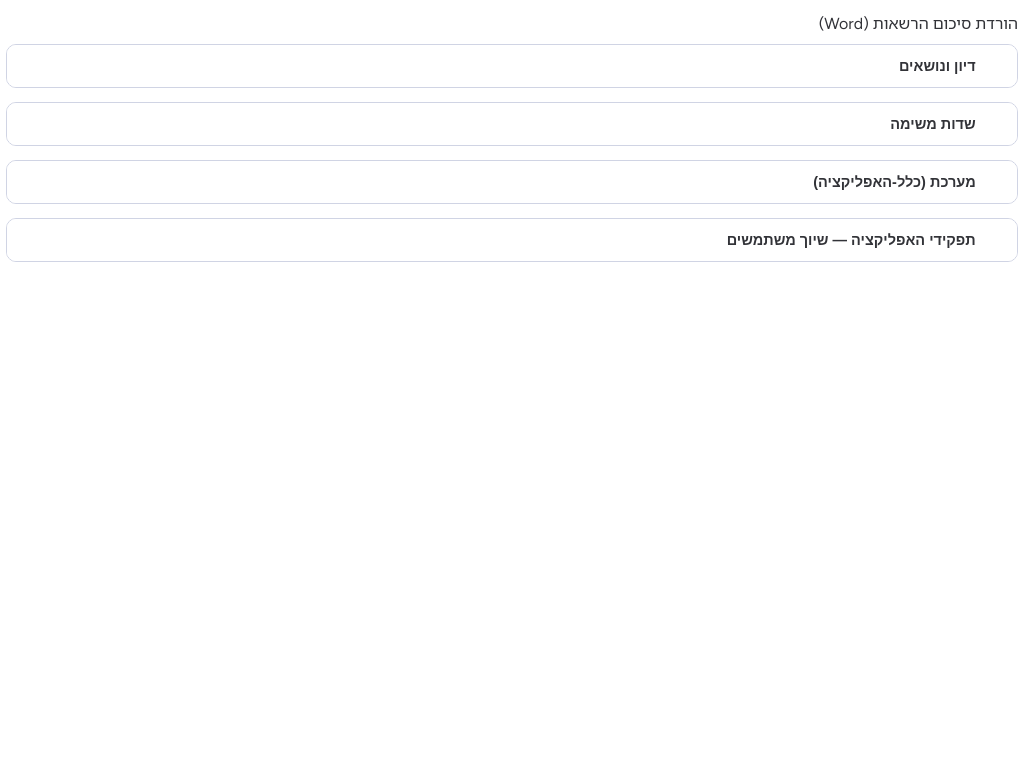
Test case: round332 — section chrome › closes the app-roles body on a second click
What coordinates should you click on to do the following:
click the button "תפקידי האפליקציה — שיוך משתמשים"
I would click on:
 (851, 240)
Its box is [7, 219, 1017, 261].
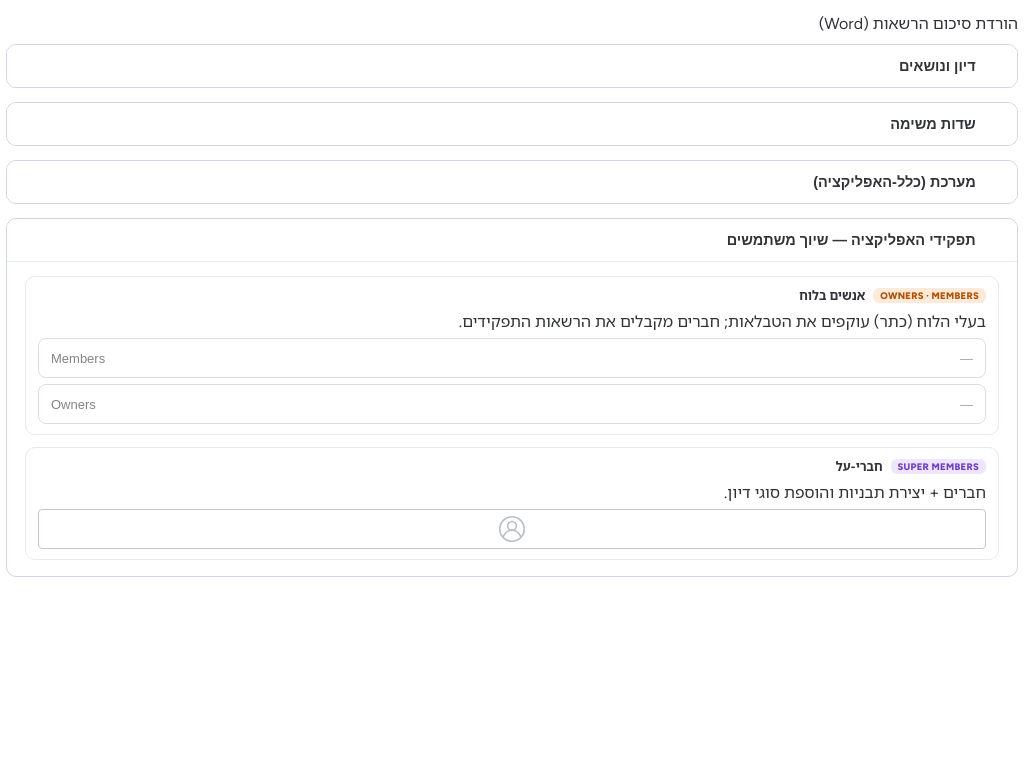
Expected: the text "SUPER MEMBERS" is shown, [890, 459, 986, 474]
What coordinates should you click on to do the following:
click the button "תפקידי האפליקציה — שיוך משתמשים"
I would click on:
 (851, 240)
Its box is [7, 219, 1017, 262].
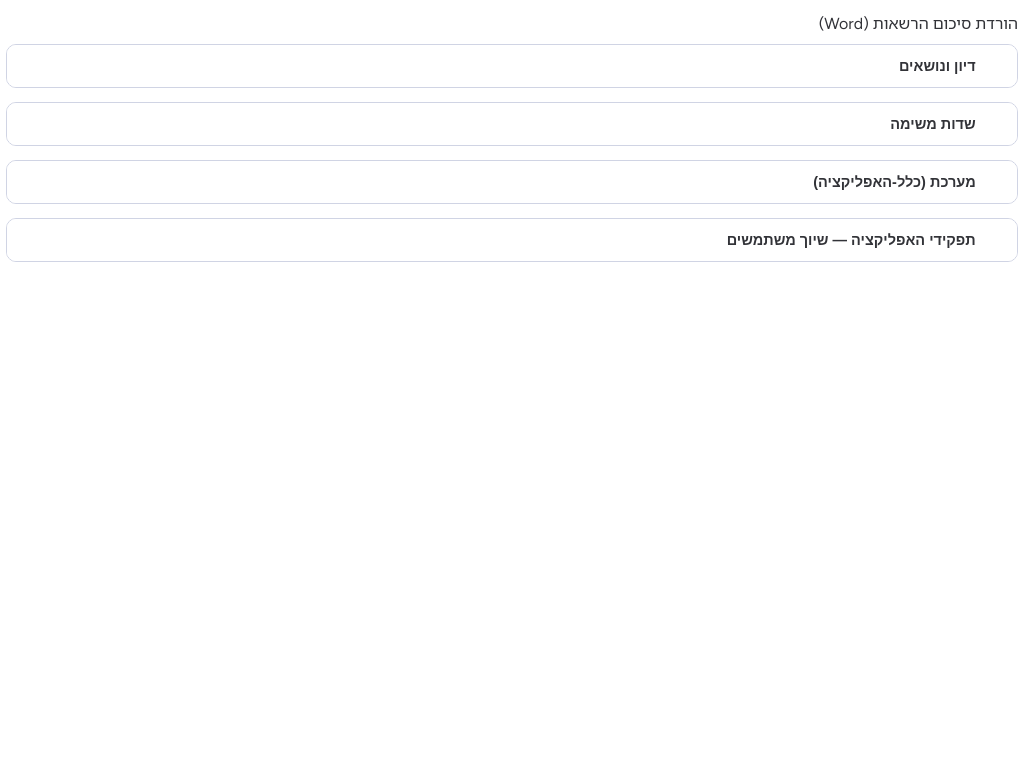
Expected: the text "SUPER MEMBERS" is gone
